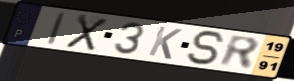3: (112, 21, 146, 56)
I: (45, 11, 68, 47)
K: (146, 25, 185, 61)
R: (217, 33, 261, 71)
S: (186, 30, 229, 67)
X: (63, 12, 111, 52)
